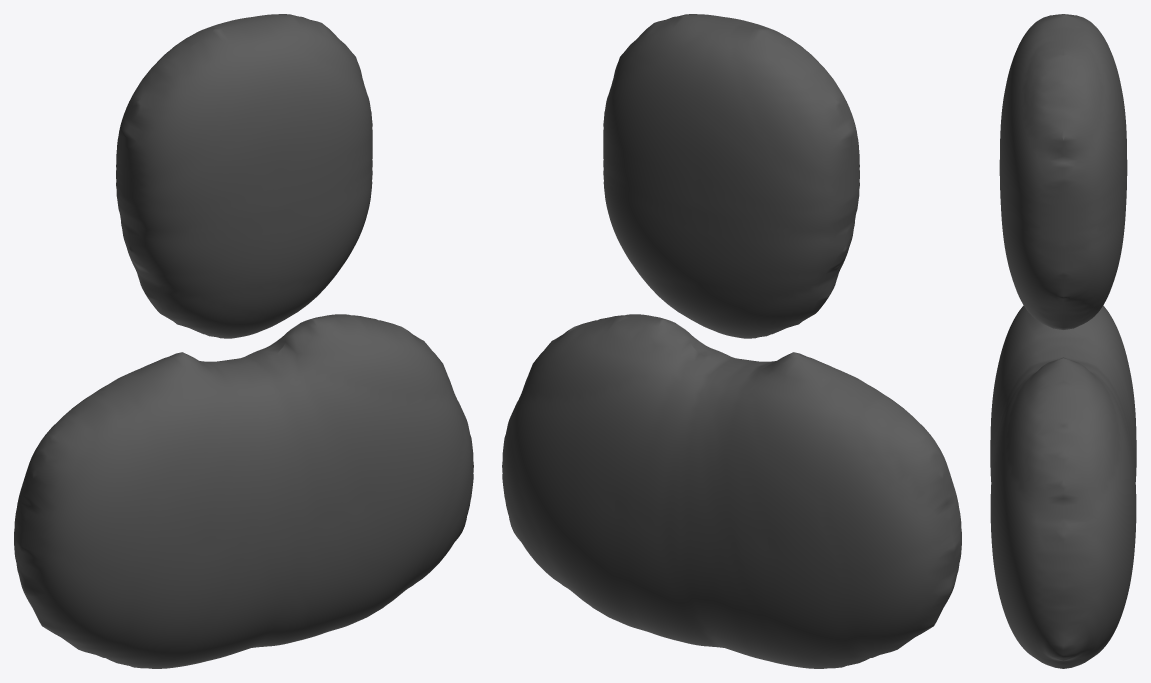
File: men.glb
The picture shows the model from 3 angles, left to right: view 1: azimuth 30°, elevation 25°; view 2: azimuth 150°, elevation 25°; view 3: azimuth 270°, elevation 25°; orthographic projection. The views are drawn at different scales.
Visible parts, largest first — view 1: mesh_id32, mesh_id30; view 2: mesh_id32, mesh_id30; view 3: mesh_id32, mesh_id30.
Part boxes in pixels (left/top/right/bottom): mesh_id32: left=14, top=314, right=473, bottom=668; mesh_id30: left=116, top=14, right=372, bottom=338; mesh_id32: left=502, top=314, right=961, bottom=668; mesh_id30: left=603, top=14, right=859, bottom=338; mesh_id32: left=990, top=305, right=1136, bottom=668; mesh_id30: left=999, top=14, right=1127, bottom=329.
Bounding box in the file's own units: 0.0936 × 0.1254 × 0.0281.
Materials: 2 (2 with a texture image).
